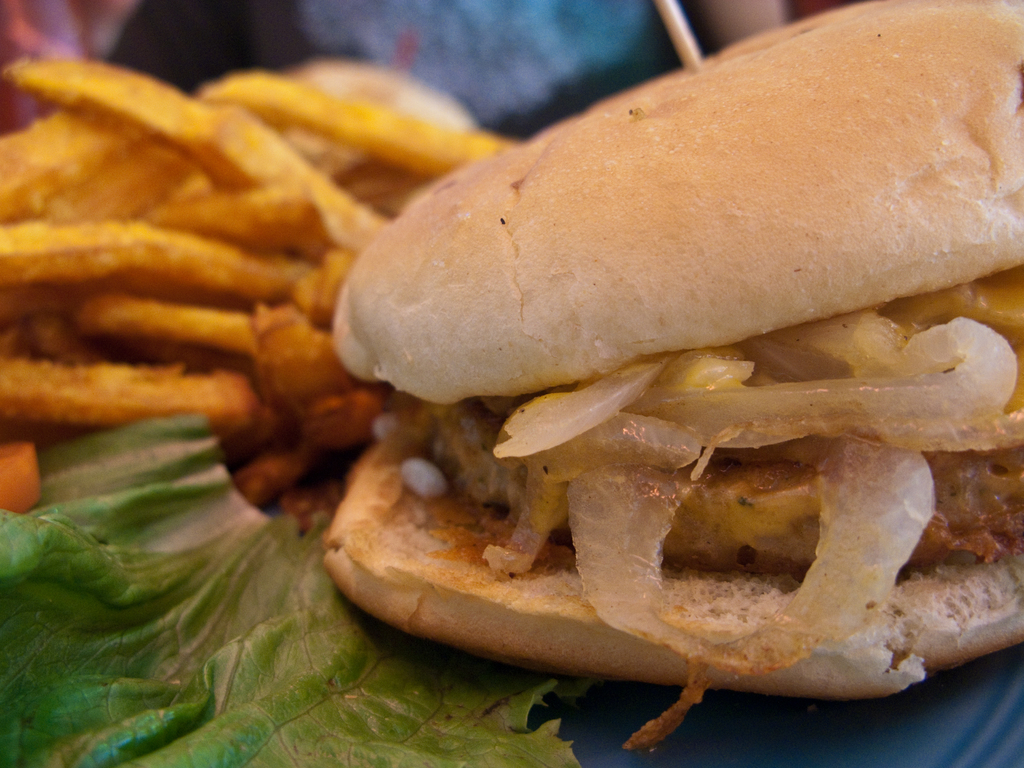French fries: (0, 59, 520, 532)
